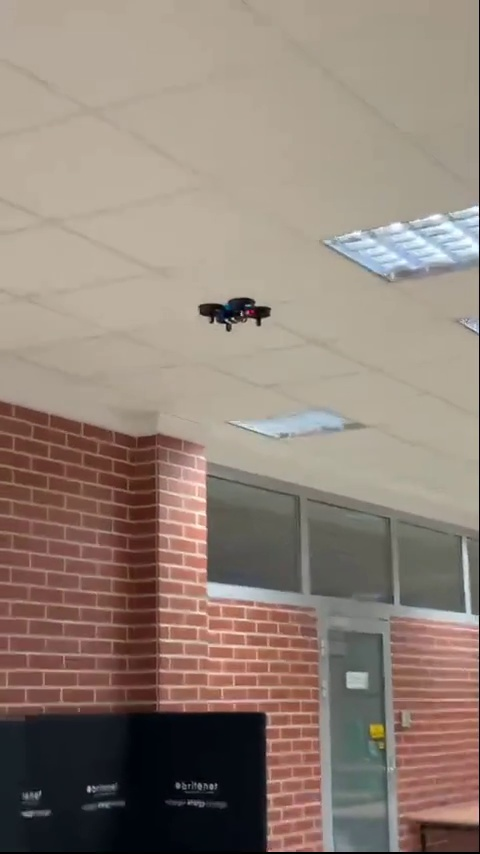drone: (197, 293, 274, 332)
